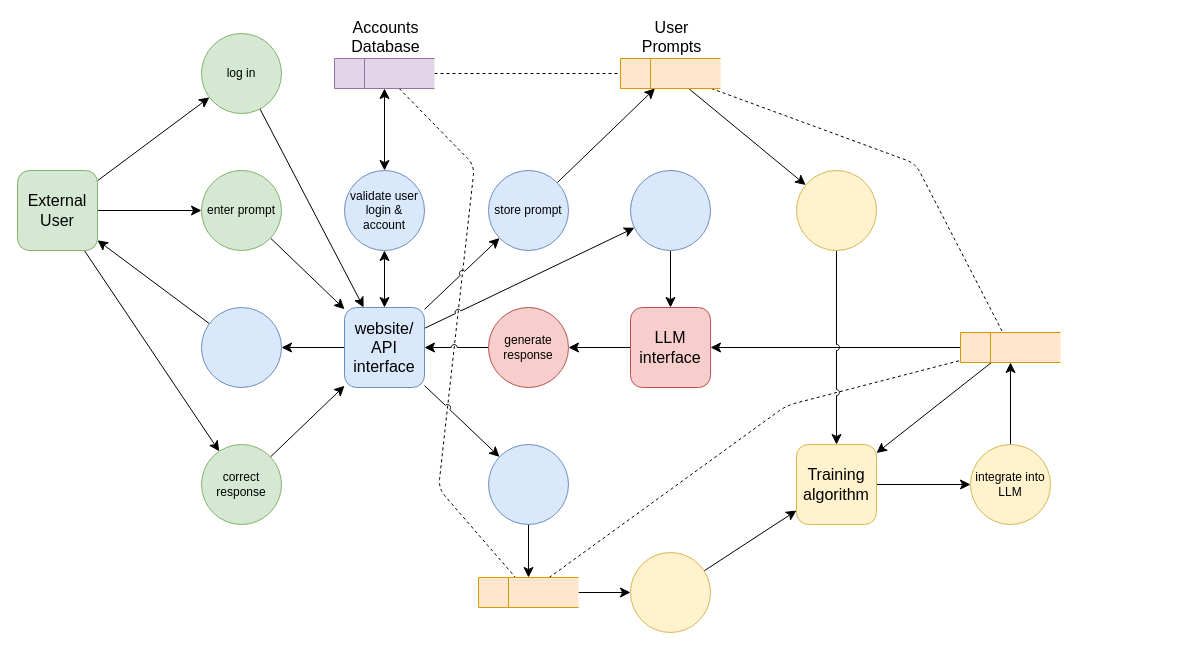
Image size: 1185x669. Some labels were removed from this diagram. The shapes that lost their labels are listed below. From the top down, each one's box as (x1, y1, x2, y2) in pixels, then its label:
(630, 170, 710, 250): pass prompt to LLM
(796, 170, 876, 250): read prompts
(200, 306, 282, 388): display response
(960, 332, 1060, 362): Large Language Model
(488, 444, 568, 524): store wrong response and correction
(478, 576, 578, 608): User Corrections
(630, 552, 710, 632): read corrections
